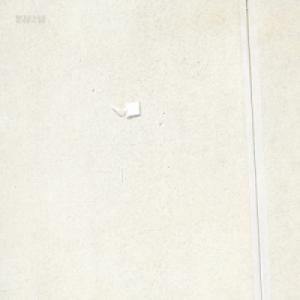LuggageTag: (109, 99, 141, 117)
